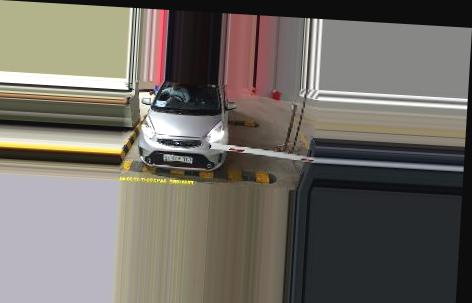License_Plate: (159, 152, 193, 166)
